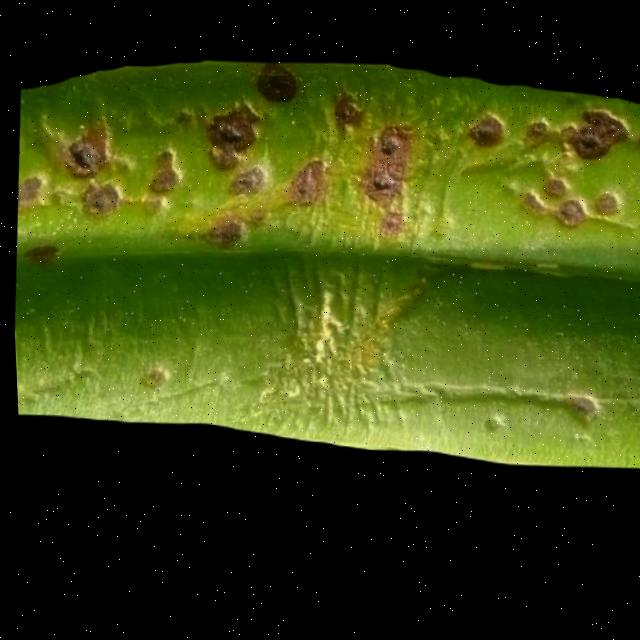mite: (195, 64, 301, 255), (245, 58, 310, 119), (565, 115, 628, 169), (454, 111, 515, 166), (208, 112, 256, 155), (253, 66, 298, 109), (146, 151, 183, 199), (78, 183, 121, 221), (462, 119, 505, 156), (330, 96, 365, 138), (199, 221, 244, 252), (62, 140, 99, 177), (225, 168, 265, 201), (554, 204, 587, 235), (521, 125, 551, 153), (638, 115, 640, 158)
